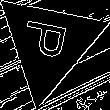P_E: (21, 21, 77, 67)
